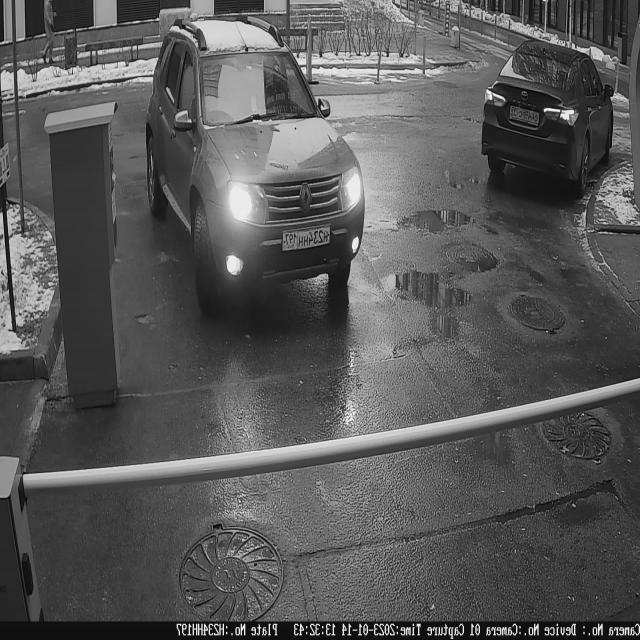car-plate-numbers: (282, 225, 332, 253)
